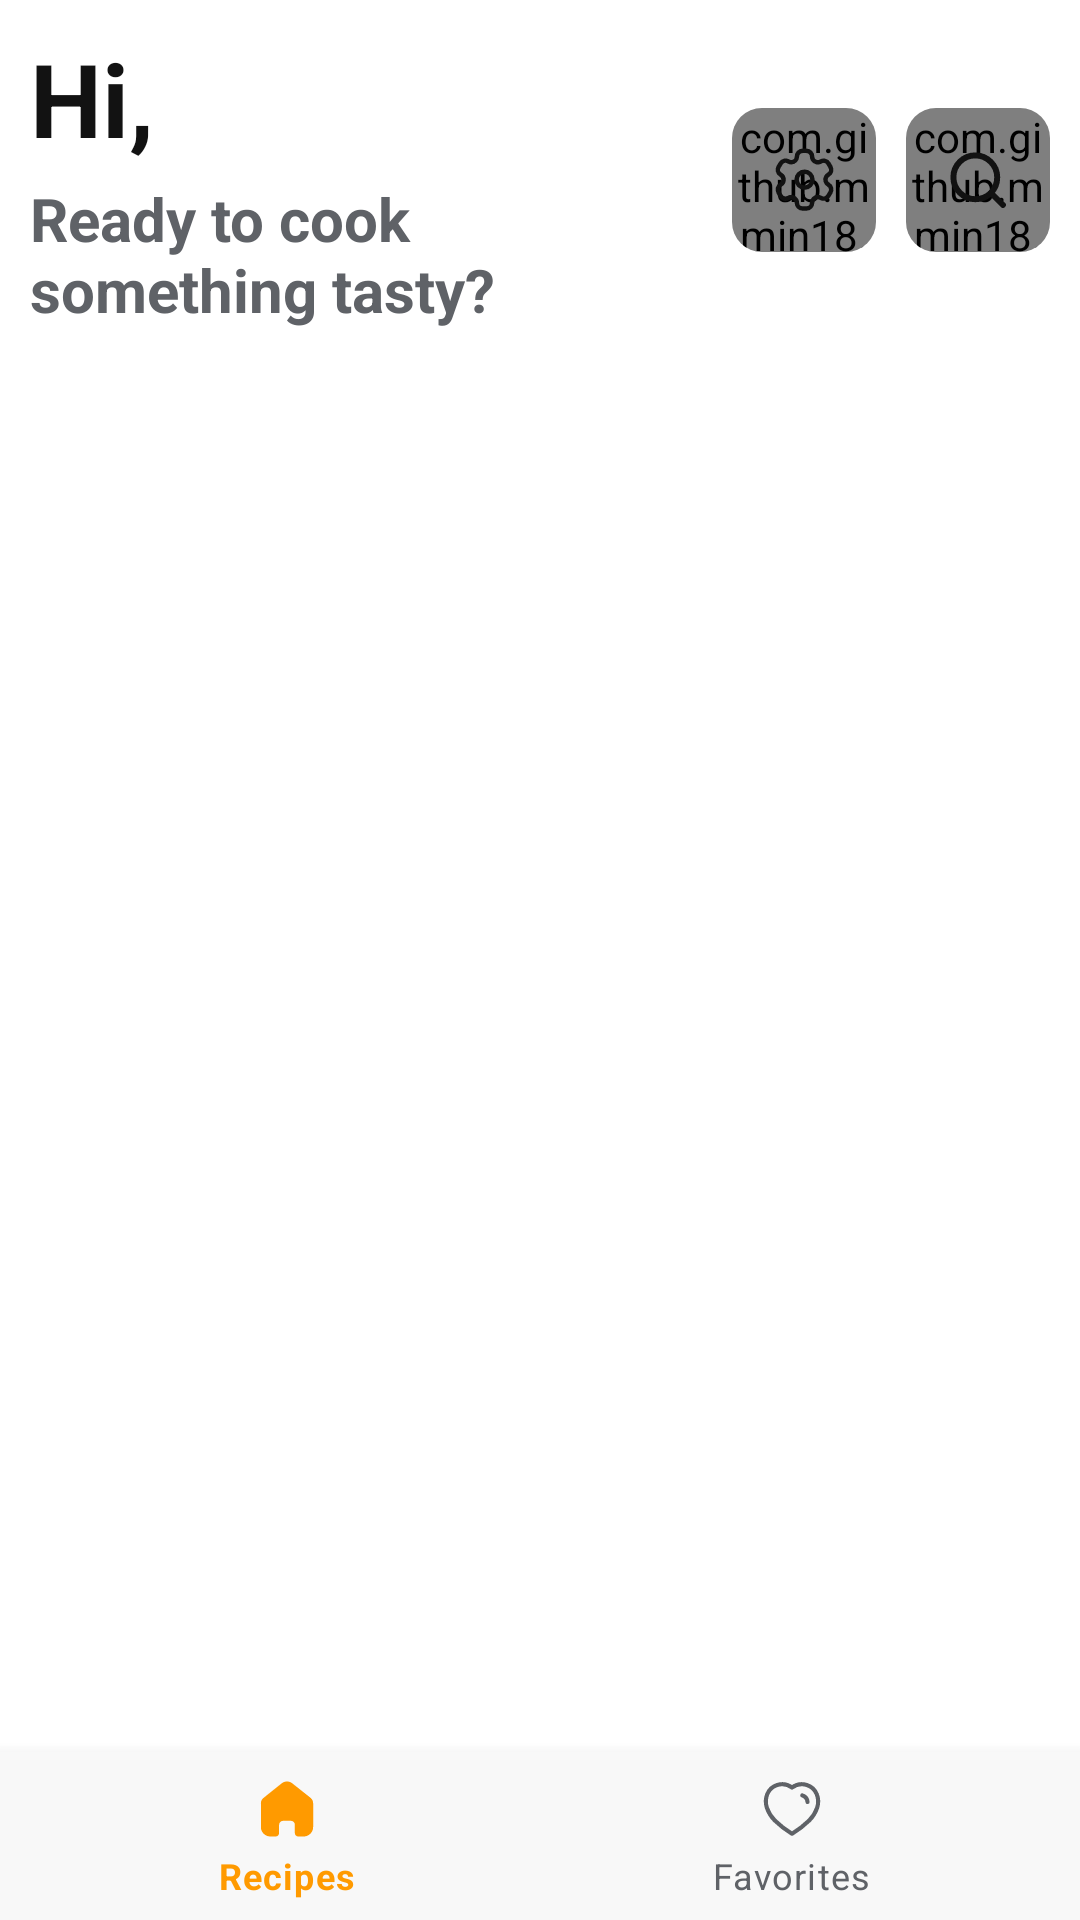

Screen size 1080 x 1920. Icon name, then its box in pixels as region(x1, y1, x2, y2):
search: region(942, 144, 1014, 208)
setting: region(768, 144, 840, 211)
